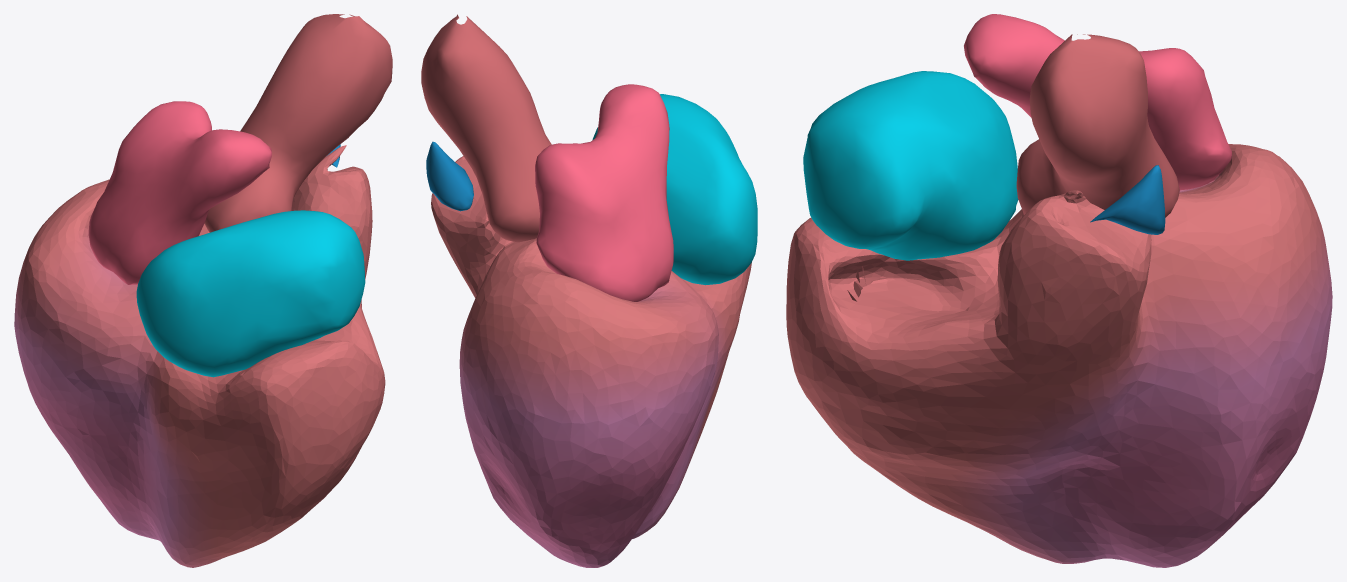
The model's file is frame_12.glb.
3 views of the same model, side by side, from view 1: azimuth 30°, elevation 25°; view 2: azimuth 150°, elevation 25°; view 3: azimuth 270°, elevation 25° (orthographic). The views are drawn at different scales.
Visible parts, largest first — view 1: Renderer Node; view 2: Renderer Node; view 3: Renderer Node.
Boxes of the visible parts, box(x1,y1,x2,y2) form: Renderer Node: box(14, 14, 392, 567); Renderer Node: box(421, 14, 757, 567); Renderer Node: box(786, 14, 1332, 567).
Size of the model in its own units: 103 by 156 by 123.
